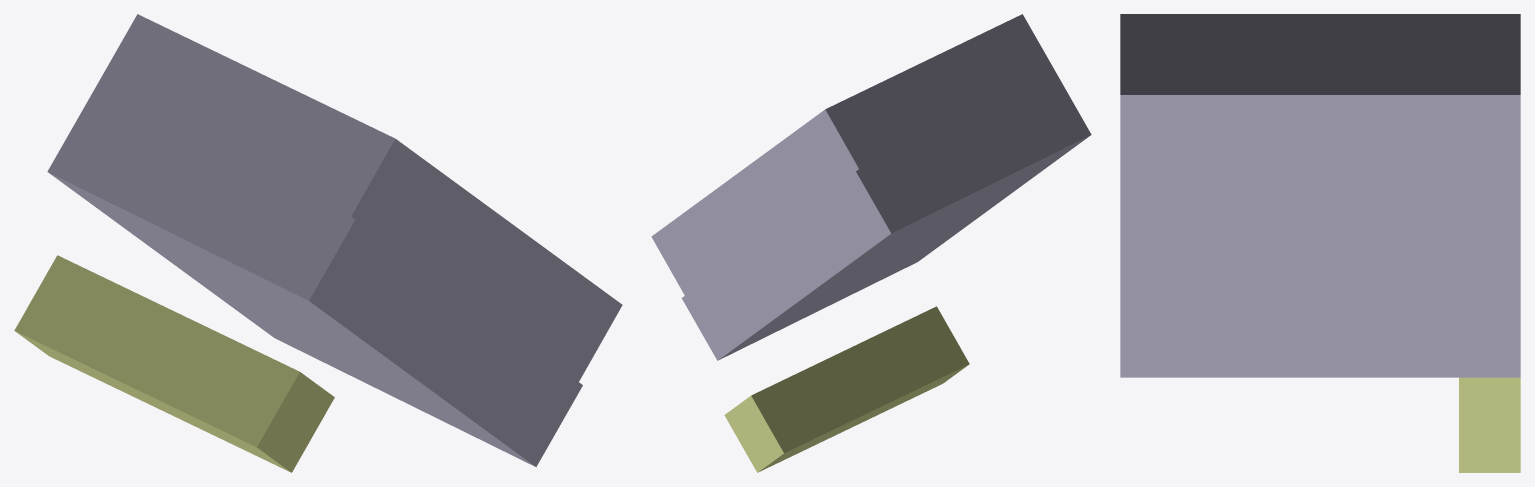
3 renders of one model, left to right at view 1: azimuth 30°, elevation 25°; view 2: azimuth 150°, elevation 25°; view 3: azimuth 270°, elevation 25°, orthographic. The views are drawn at different scales.
Visible parts, largest first — view 1: 0_3_2_0_2_0_1_3_2; view 2: 0_3_2_0_2_0_1_3_2; view 3: 0_3_2_0_2_0_1_3_2.
Part boxes in pixels (x1,y1,x2,y2): 0_3_2_0_2_0_1_3_2: (14, 14, 622, 472); 0_3_2_0_2_0_1_3_2: (651, 14, 1091, 472); 0_3_2_0_2_0_1_3_2: (1120, 14, 1520, 472).
Size of the model in its own units: 37.77 by 43.79 by 39.
